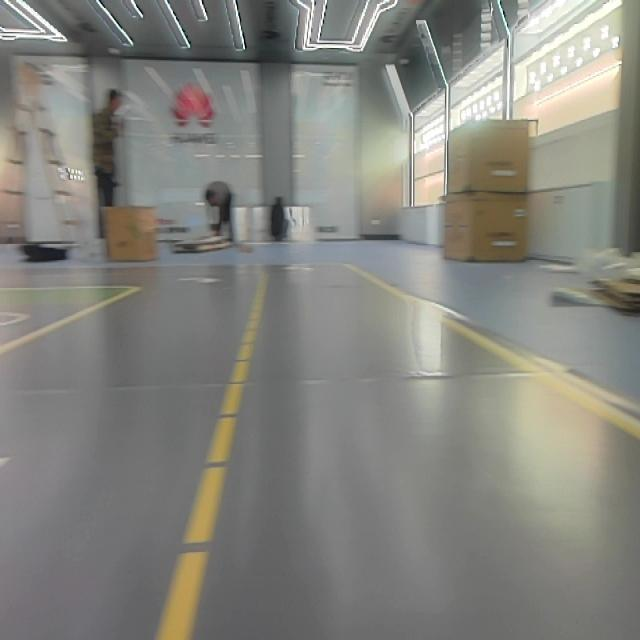left_lane: (155, 280, 269, 640)
right_lane: (350, 263, 640, 443), (0, 287, 130, 359)
